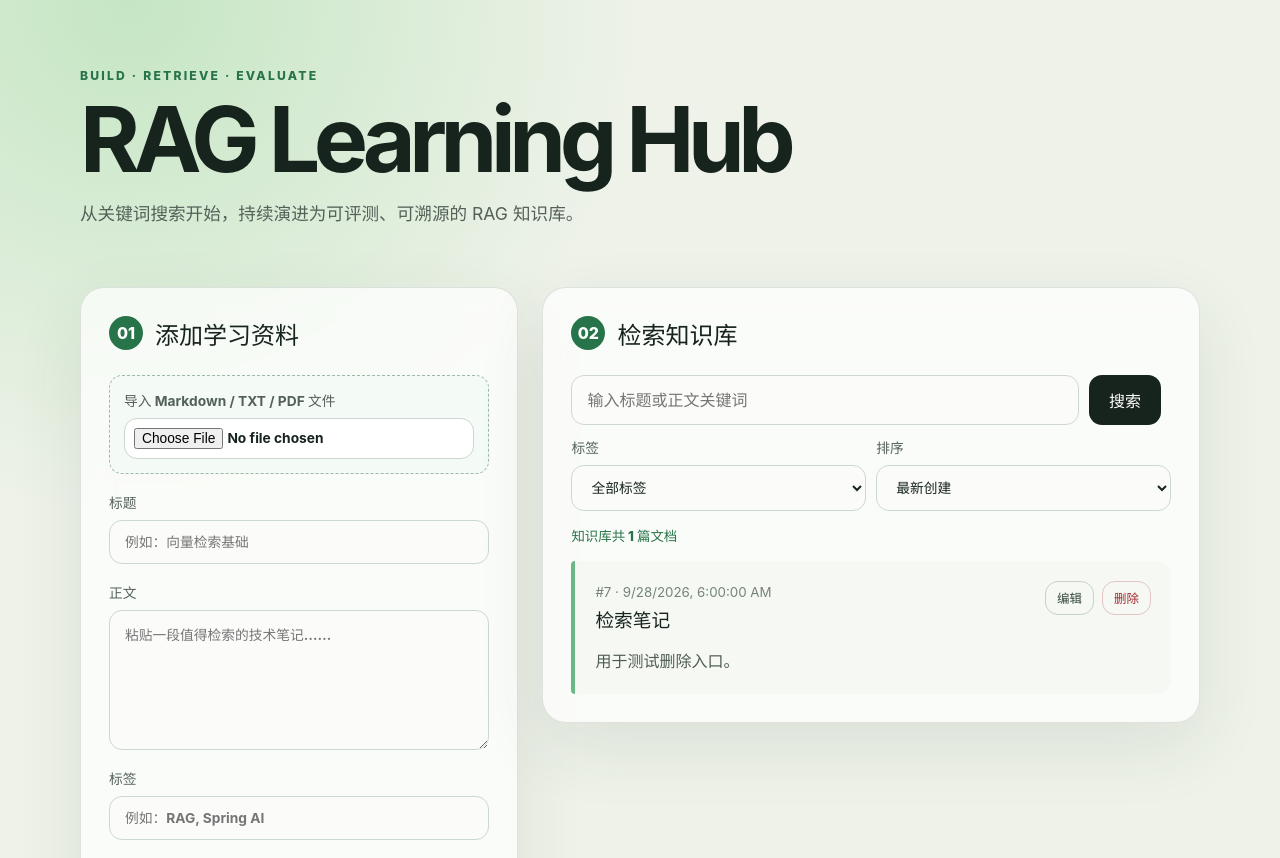
Test: App › shows a delete action for each loaded document
Expected: the button with aria-label "删除检索笔记" is shown, [1102,581,1151,615]
Expected: the text with class "result-summary" reads "知识库共 1 篇文档", [571,528,677,544]
In the field with placeholder "输入标题或正文关键词": (825, 400) [571,375,1079,425], type "检索"
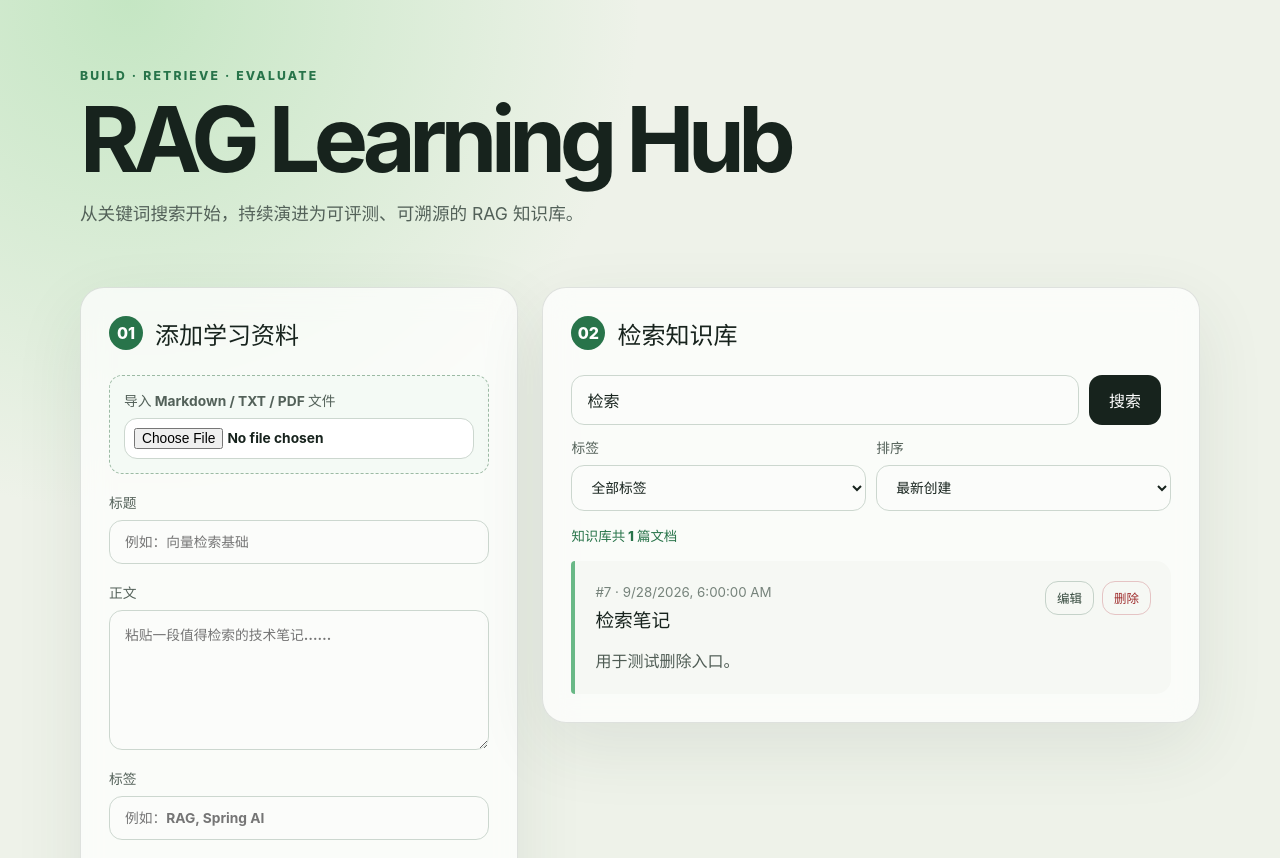
Submit the form with class "search", box [571,375,1171,511]
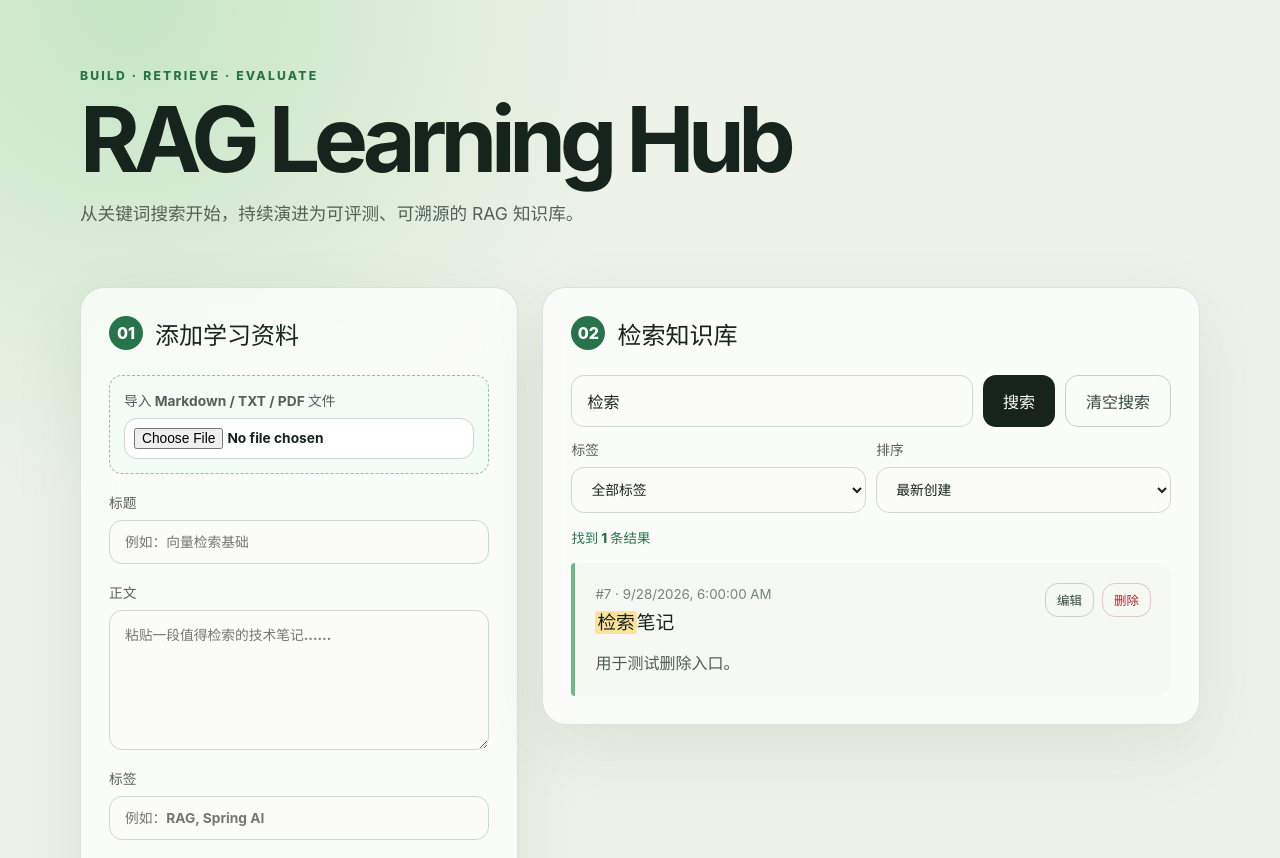
Result: the text with class "result-summary" reads "找到 1 条结果" at [571,530,650,546]
